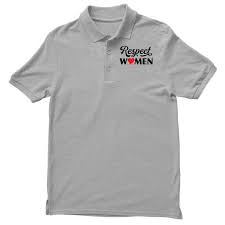S_polo shirt: (9, 2, 221, 224)
